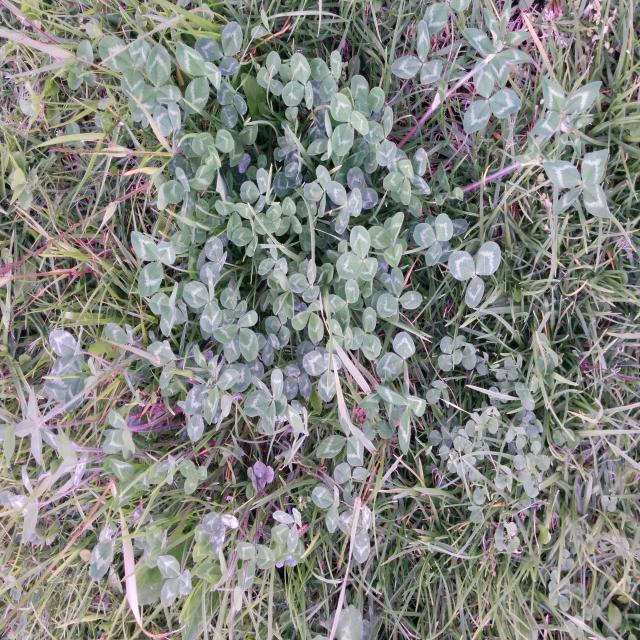Four Leaf Clover: (244, 369, 287, 435)
